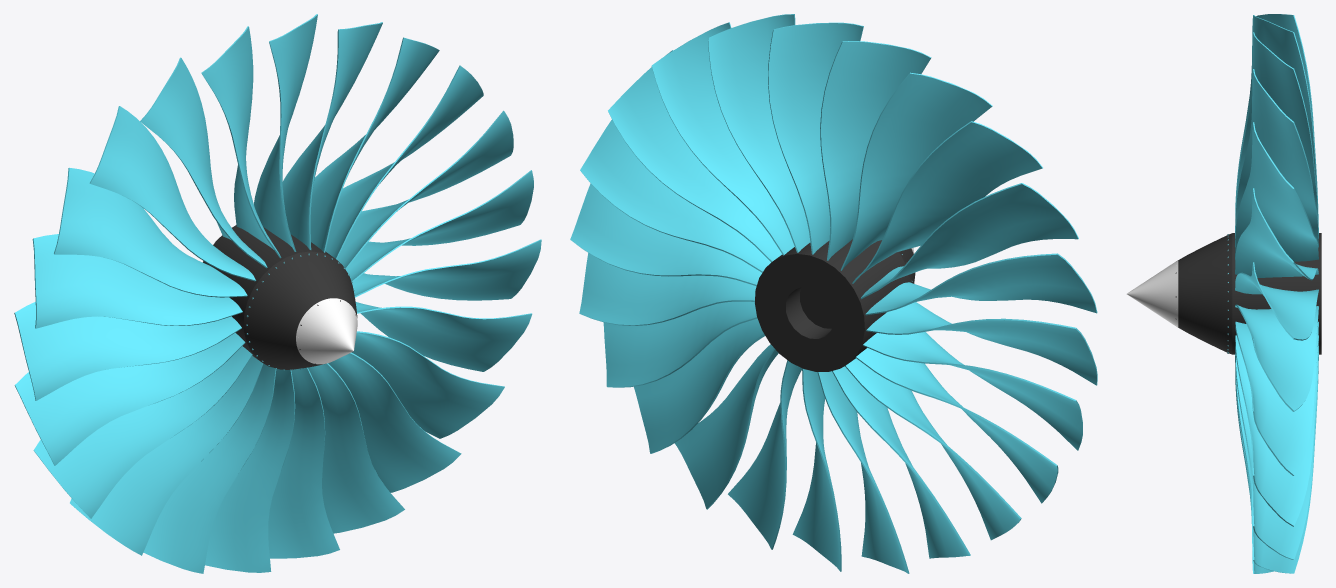
File: turbine_engine_blade.glb
3 views of the same model, side by side, from view 1: azimuth 30°, elevation 25°; view 2: azimuth 150°, elevation 25°; view 3: azimuth 270°, elevation 25° (orthographic). The views are drawn at different scales.
Parts seen in each view (by area): view 1: Solid2_0, Solido1_2; view 2: Solid2_0; view 3: Solid2_0, Solido1_2.
Part boxes in pixels (<box>): Solid2_0: <box>14,14,541,573</box>; Solido1_2: <box>296,298,357,364</box>; Solid2_0: <box>570,14,1097,573</box>; Solid2_0: <box>1178,14,1321,573</box>; Solido1_2: <box>1127,260,1178,327</box>.
Bounding box in the file's own units: 0.6262 × 0.6262 × 0.2183.
